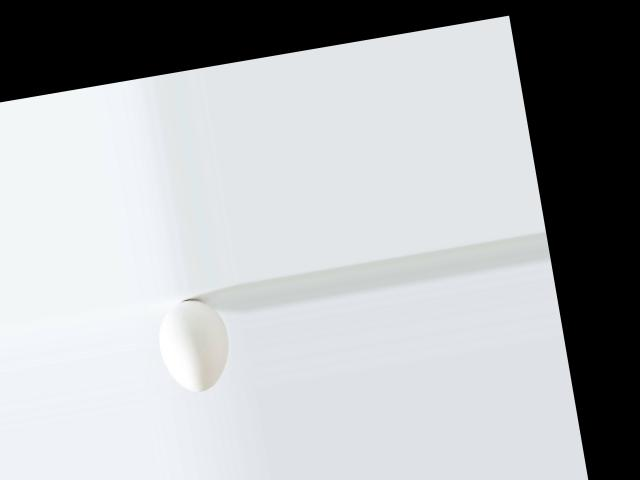egg: (152, 294, 235, 397)
